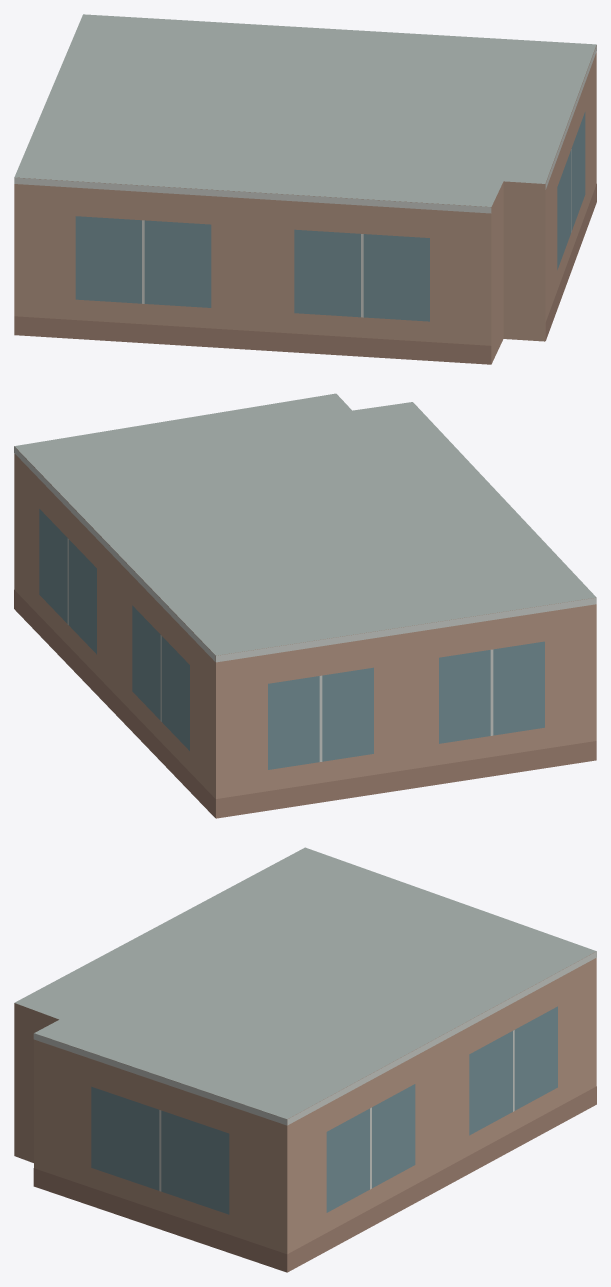
Rendered from survey-upis-32752922.glb.
3 renders of one model, top to bottom at view 1: azimuth 30°, elevation 25°; view 2: azimuth 150°, elevation 25°; view 3: azimuth 270°, elevation 25°, orthographic. The views are drawn at different scales.
Parts seen in each view (by area): view 1: survey-upis-32752922.tmp; view 2: survey-upis-32752922.tmp; view 3: survey-upis-32752922.tmp.
Boxes of the visible parts, bbox=[...] form: survey-upis-32752922.tmp: bbox=[14, 14, 596, 364]; survey-upis-32752922.tmp: bbox=[14, 393, 596, 818]; survey-upis-32752922.tmp: bbox=[14, 847, 596, 1272].
Bounding box in the file's own units: 11.62 × 3.05 × 10.52.
